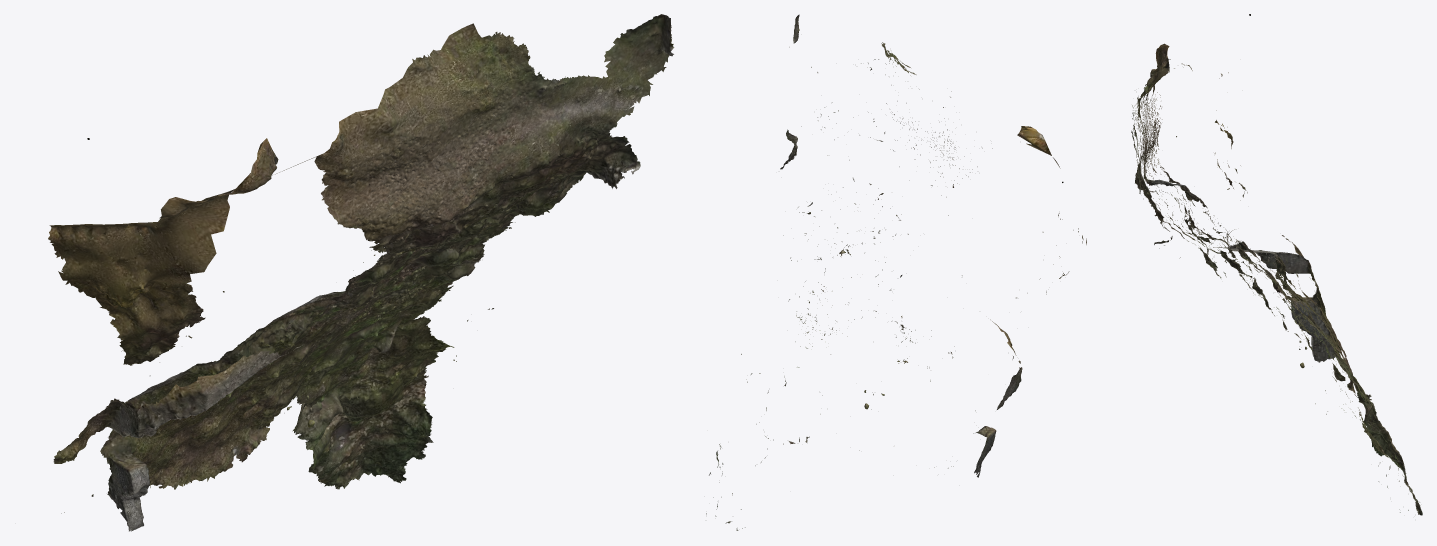
3 views of the same model, side by side, from view 1: azimuth 30°, elevation 25°; view 2: azimuth 150°, elevation 25°; view 3: azimuth 270°, elevation 25° (orthographic). The views are drawn at different scales.
Bounding box in the file's own units: 20.4 × 21.96 × 14.
Materials: 1 (1 with a texture image).
